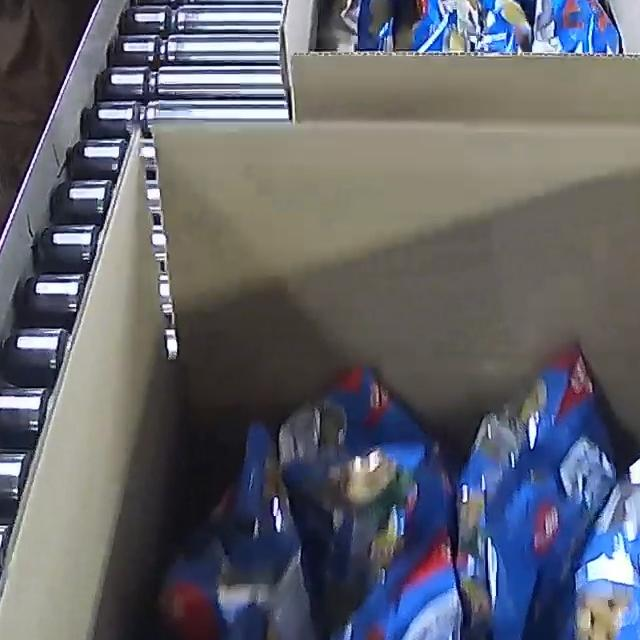paprika: (53, 341, 640, 640), (332, 0, 624, 56)
